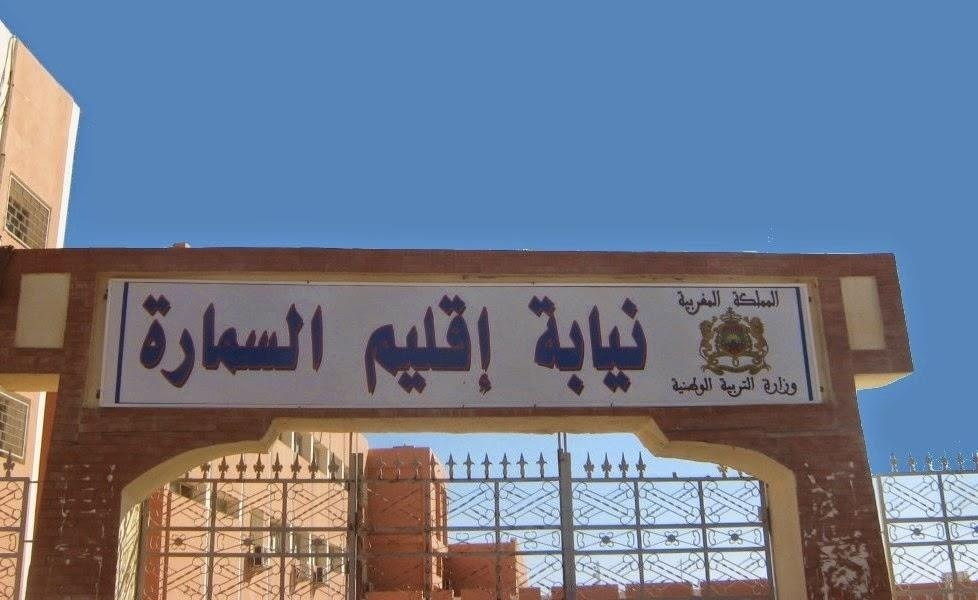text: (481, 295, 497, 397), (529, 296, 544, 398), (545, 296, 560, 398), (561, 296, 576, 398), (577, 296, 592, 398), (593, 296, 608, 398), (609, 296, 624, 398), (625, 296, 640, 398), (369, 295, 384, 397), (385, 295, 400, 397), (401, 295, 416, 397), (417, 295, 432, 397), (433, 295, 448, 397), (449, 295, 464, 397), (465, 295, 480, 397), (145, 293, 160, 388), (161, 293, 176, 388), (177, 293, 192, 388), (193, 293, 208, 388), (209, 293, 224, 388), (225, 293, 240, 388), (241, 293, 256, 388), (257, 293, 272, 388), (273, 293, 288, 388), (289, 293, 304, 388), (305, 293, 320, 388), (641, 296, 649, 398), (138, 293, 144, 388), (321, 293, 326, 388), (673, 287, 688, 316), (689, 287, 704, 316), (705, 287, 720, 316), (364, 295, 368, 397), (769, 375, 784, 399), (673, 376, 688, 400), (689, 376, 704, 400), (785, 375, 799, 399), (721, 377, 736, 399), (737, 377, 752, 399), (737, 289, 752, 310), (753, 289, 768, 310), (705, 376, 717, 400), (769, 289, 780, 310), (762, 375, 768, 399), (730, 289, 736, 310), (716, 377, 720, 399), (753, 377, 756, 399), (670, 376, 672, 400), (721, 287, 722, 316)
